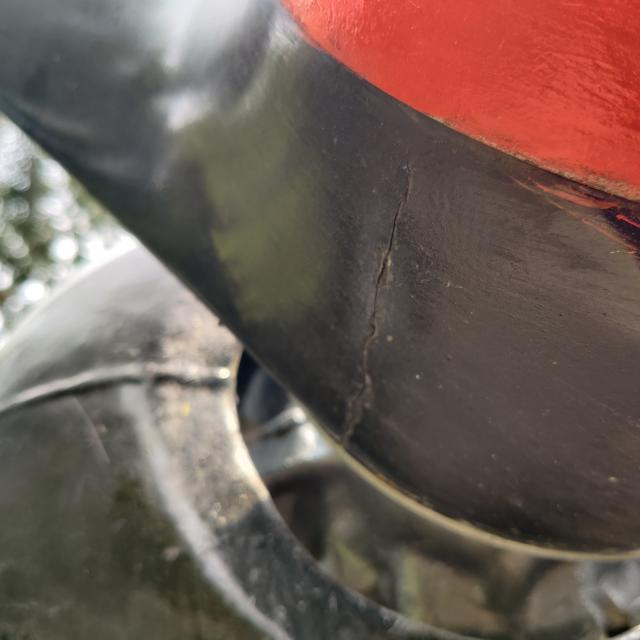crack: (290, 143, 476, 465)
